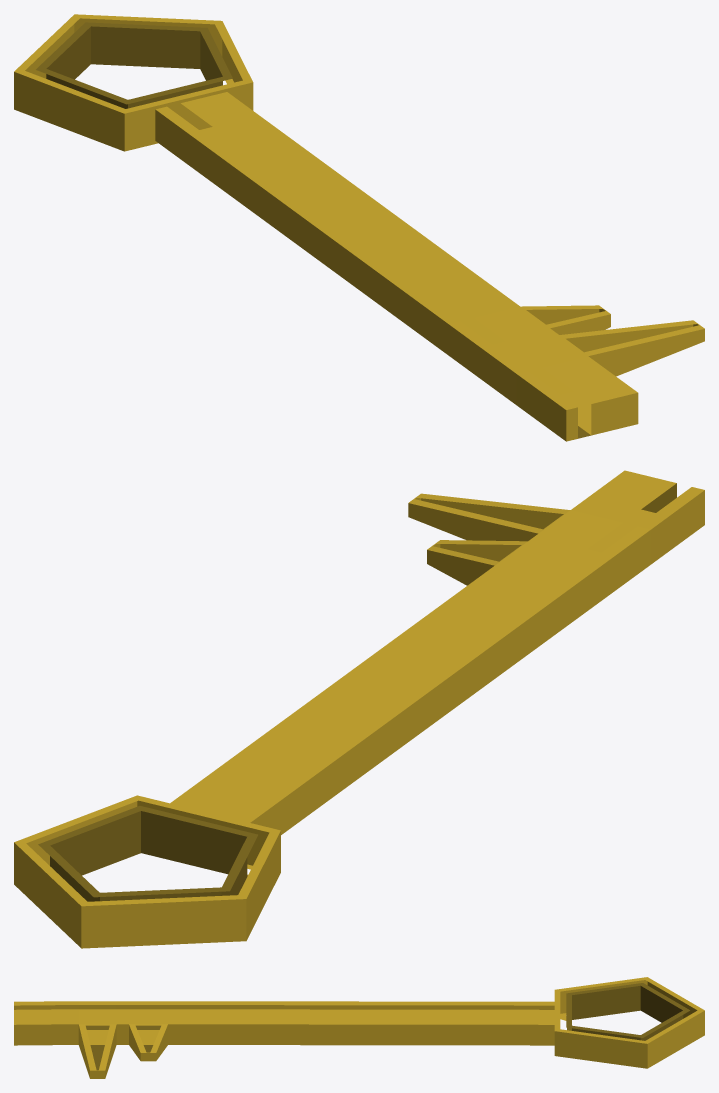
The model's file is key.fbx.
3 renders of one model, top to bottom at view 1: azimuth 30°, elevation 25°; view 2: azimuth 150°, elevation 25°; view 3: azimuth 270°, elevation 25°, orthographic. The views are drawn at different scales.
Visible parts, largest first — view 1: Circle; view 2: Circle; view 3: Circle.
Boxes of the visible parts, bbox=[...] form: Circle: bbox=[14, 14, 704, 441]; Circle: bbox=[14, 470, 704, 948]; Circle: bbox=[14, 977, 704, 1078].
Bounding box in the file's own units: 244 × 33 × 831.
